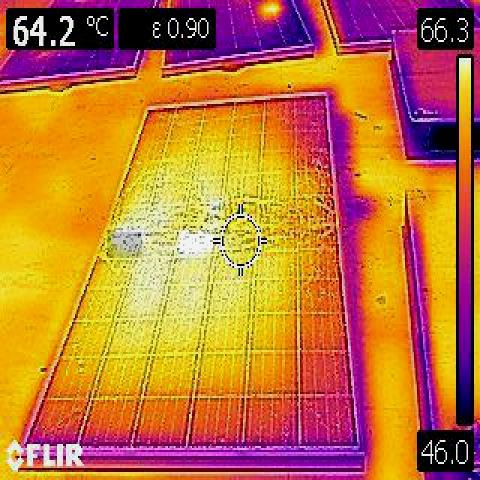fault: (107, 232, 142, 258), (179, 231, 213, 252)
